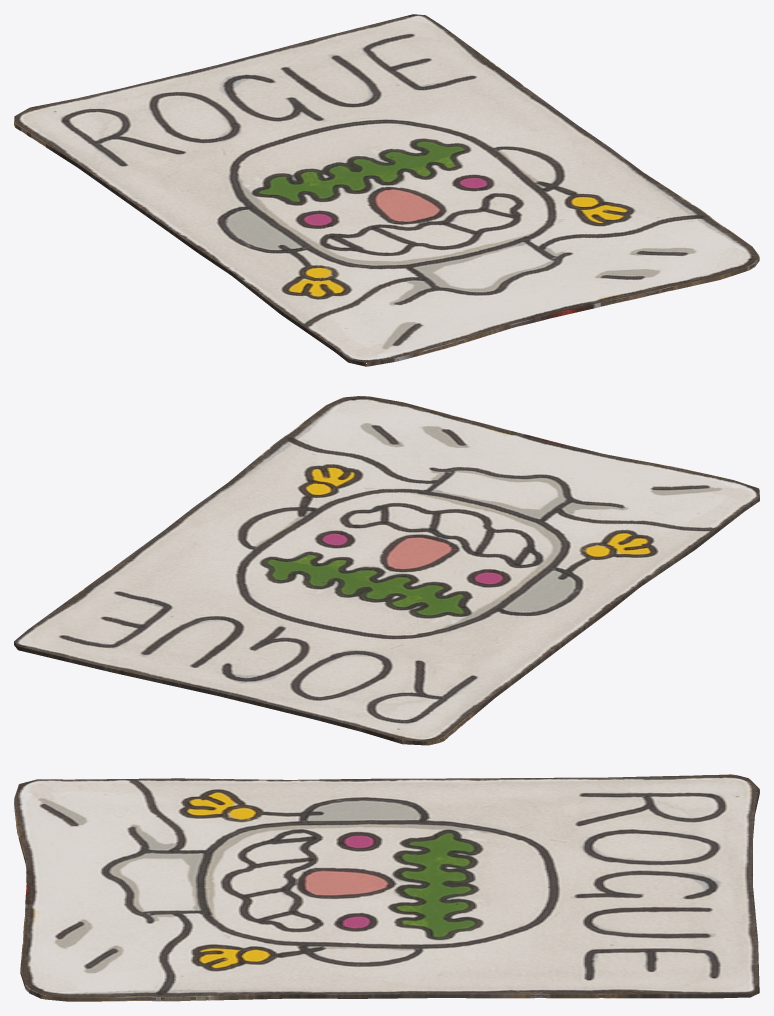
The model's file is poster.fbx.
3 renders of one model, top to bottom at view 1: azimuth 30°, elevation 25°; view 2: azimuth 150°, elevation 25°; view 3: azimuth 270°, elevation 25°, orthographic. The views are drawn at different scales.
Parts seen in each view (by area): view 1: Plane; view 2: Plane; view 3: Plane.
Boxes of the visible parts, box(x1,y1,x2,y2) form: Plane: box(14, 14, 759, 366); Plane: box(14, 396, 759, 745); Plane: box(14, 774, 759, 1001).
Size of the model in its own units: 351 by 2.91 by 495.
